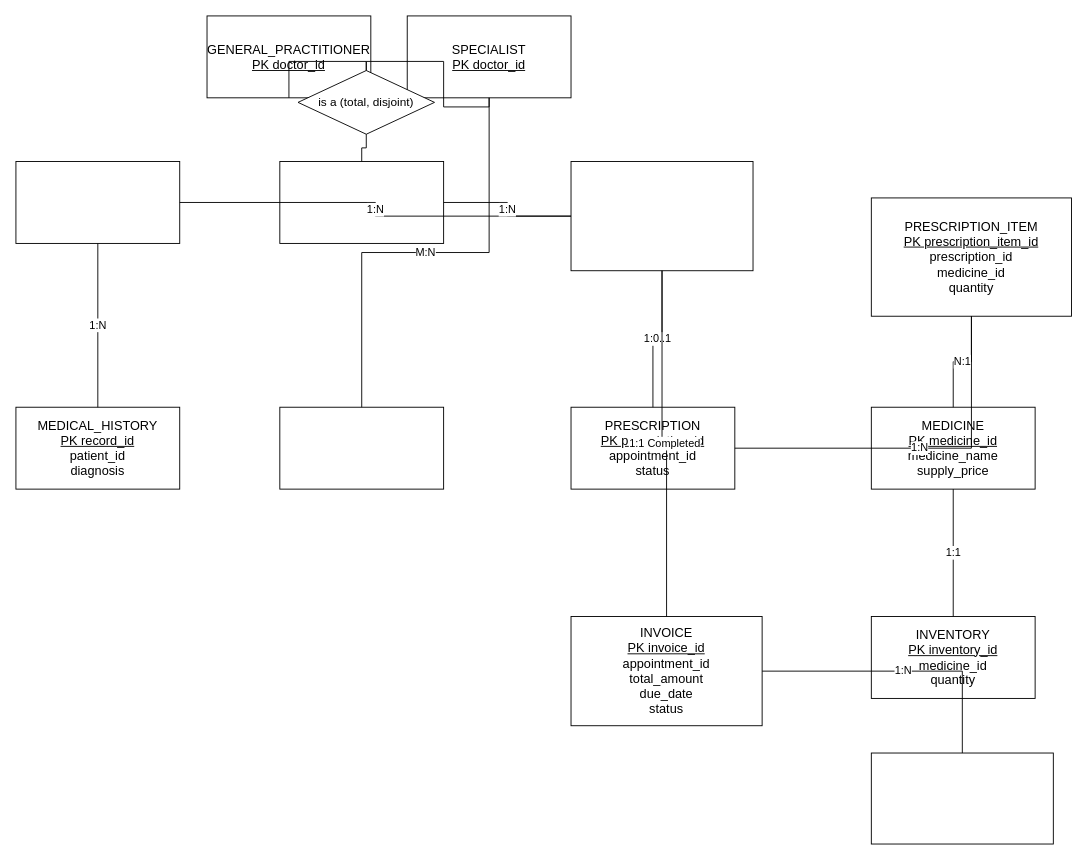
The diagram is 1087 pixels wide and 860 high, and some of its shapes have lost their labels. Here are the shapes that lost their labels. From the top down, the box of each, then its label:
(15, 161, 180, 243): PATIENT PK patient_id full_name date_of_birth phone email
(279, 161, 444, 243): DOCTOR PK doctor_id license_no doctor_type status
(570, 161, 753, 271): APPOINTMENT PK appointment_id patient_id doctor_id appointment_type status
(279, 406, 444, 489): SPECIALTY PK specialty_id specialty_name
(870, 752, 1053, 844): PAYMENT PK payment_id invoice_id amount_paid
